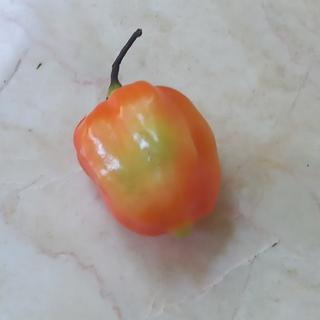Grade-B: (65, 72, 227, 239)
